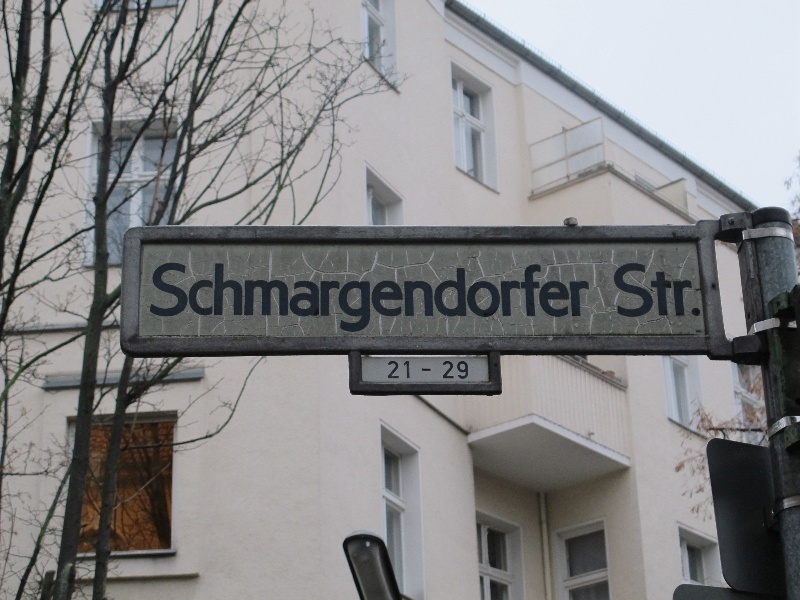text: (577, 259, 593, 336), (161, 259, 176, 336), (177, 259, 192, 336), (193, 259, 208, 336), (209, 259, 224, 336), (225, 259, 240, 336), (241, 259, 256, 336), (257, 259, 272, 336), (273, 259, 288, 336), (289, 259, 304, 336), (305, 259, 320, 336), (321, 259, 336, 336), (337, 259, 352, 336), (353, 259, 368, 336), (369, 259, 384, 336), (385, 259, 400, 336), (401, 259, 416, 336), (417, 259, 432, 336), (433, 259, 448, 336), (449, 259, 464, 336), (465, 259, 480, 336), (481, 259, 496, 336), (497, 259, 512, 336), (513, 259, 528, 336), (529, 259, 544, 336), (545, 259, 560, 336), (561, 259, 576, 336), (625, 259, 640, 322), (641, 259, 656, 322), (657, 259, 672, 322), (673, 259, 688, 322), (689, 259, 704, 322), (612, 259, 624, 322), (152, 259, 160, 336), (449, 361, 464, 379), (388, 361, 400, 379), (401, 361, 410, 379), (443, 361, 448, 379), (465, 361, 468, 379), (422, 369, 432, 371)
